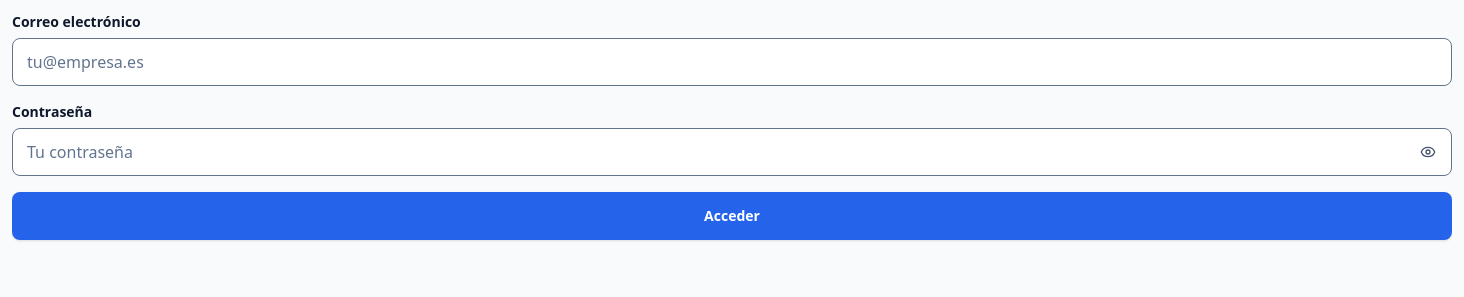
Test: Formulario de acceso › marca el envío en curso y deja reintentar cuando el adaptador rechaza el acceso
In the field labelled "Correo electrónico": (732, 62) [12,38,1452,86], type "prueba@example.invalid"
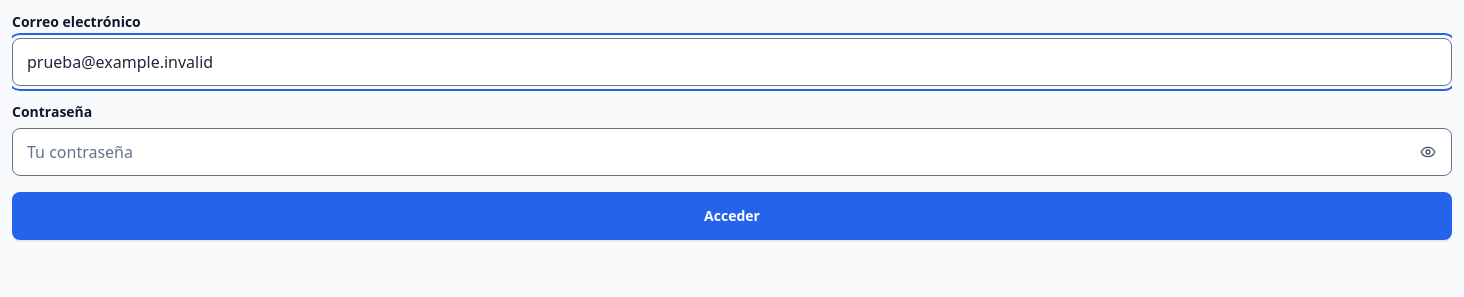
In the password field labelled "Contraseña": (732, 152) [12,128,1452,176], type "entrada-de-prueba"
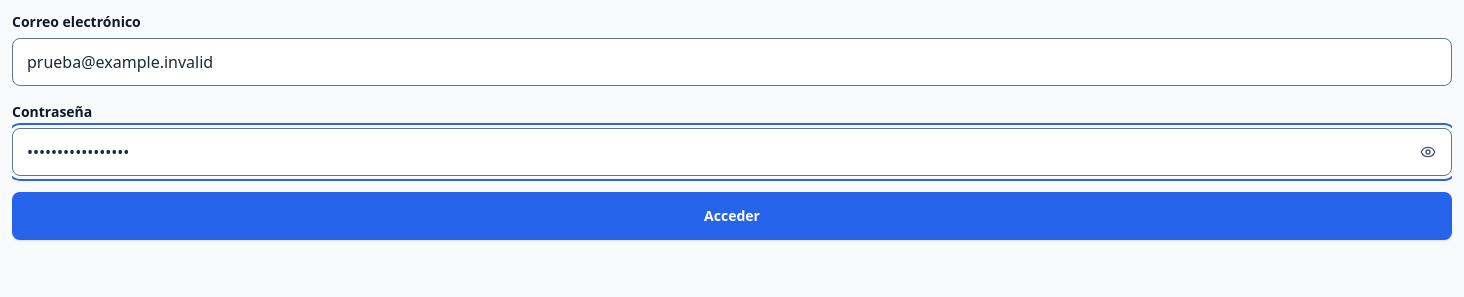
Click the button "Acceder": (732, 216) [12,192,1452,240]
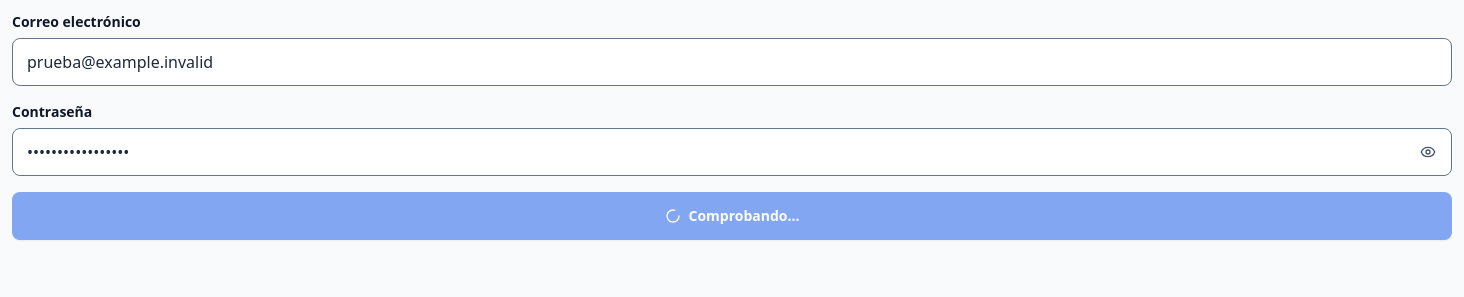
Check: the button "Comprobando…" is disabled
Click the button "Comprobando…": (732, 216) [12,192,1452,240]
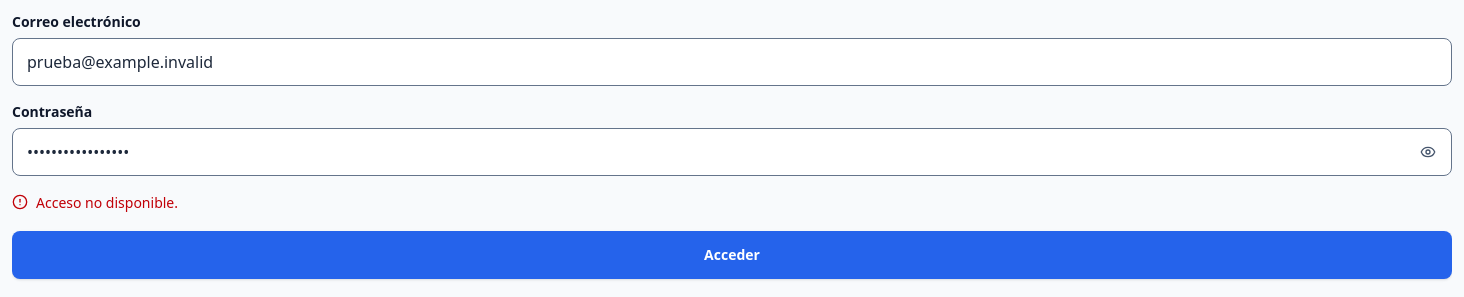
Check: the message reads "Acceso no disponible.", box [36,193,178,212]
Check: the button "Acceder" is enabled, box [12,231,1452,279]
